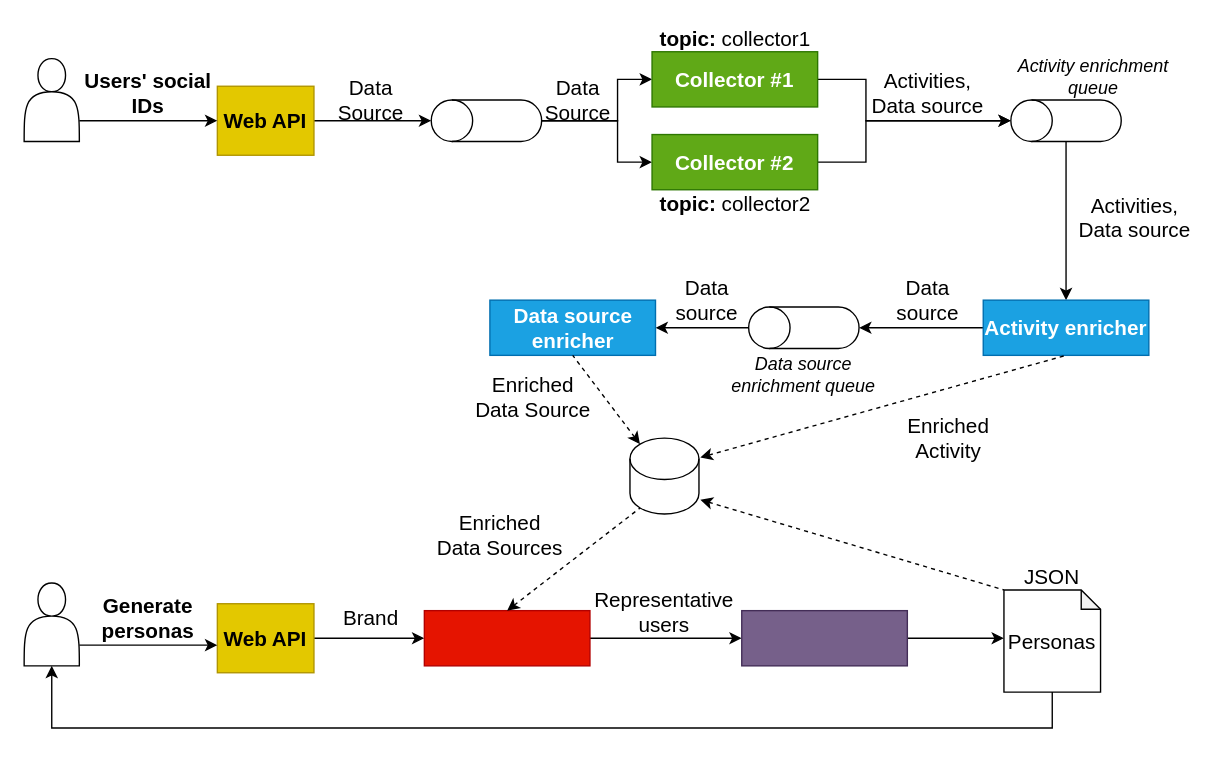
Image size: 1221x763. Some labels were removed from this diagram. The shapes that lost their labels are listed below. From the top down, each one's box as (x1, y1, x2, y2) in pixels, then its label:
(430, 99, 542, 141): Collection queue
(629, 437, 699, 514): DB
(423, 609, 590, 666): Clustering
(740, 609, 907, 666): Persona generator
